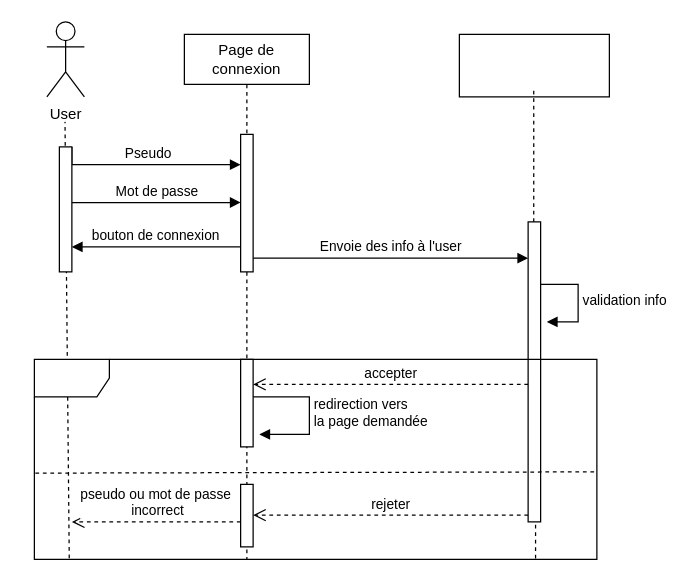
The diagram is 688 pixels wide and 583 high, and some of its shapes have lost their labels. Each missing label, with the centre of its shape:
"If valider" goes at pixel 315 458.
"Système d'authentification" goes at pixel 533 65.
